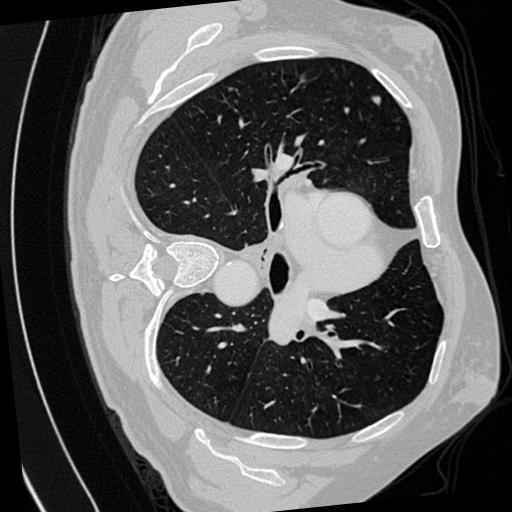nodule: (372, 93, 386, 107)
